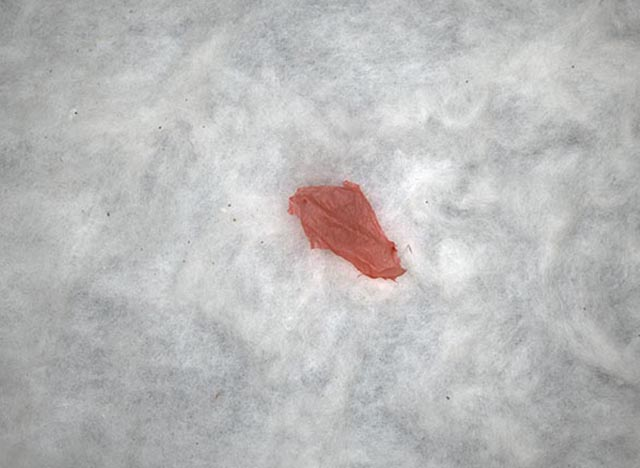plastic film: (287, 180, 408, 281)
